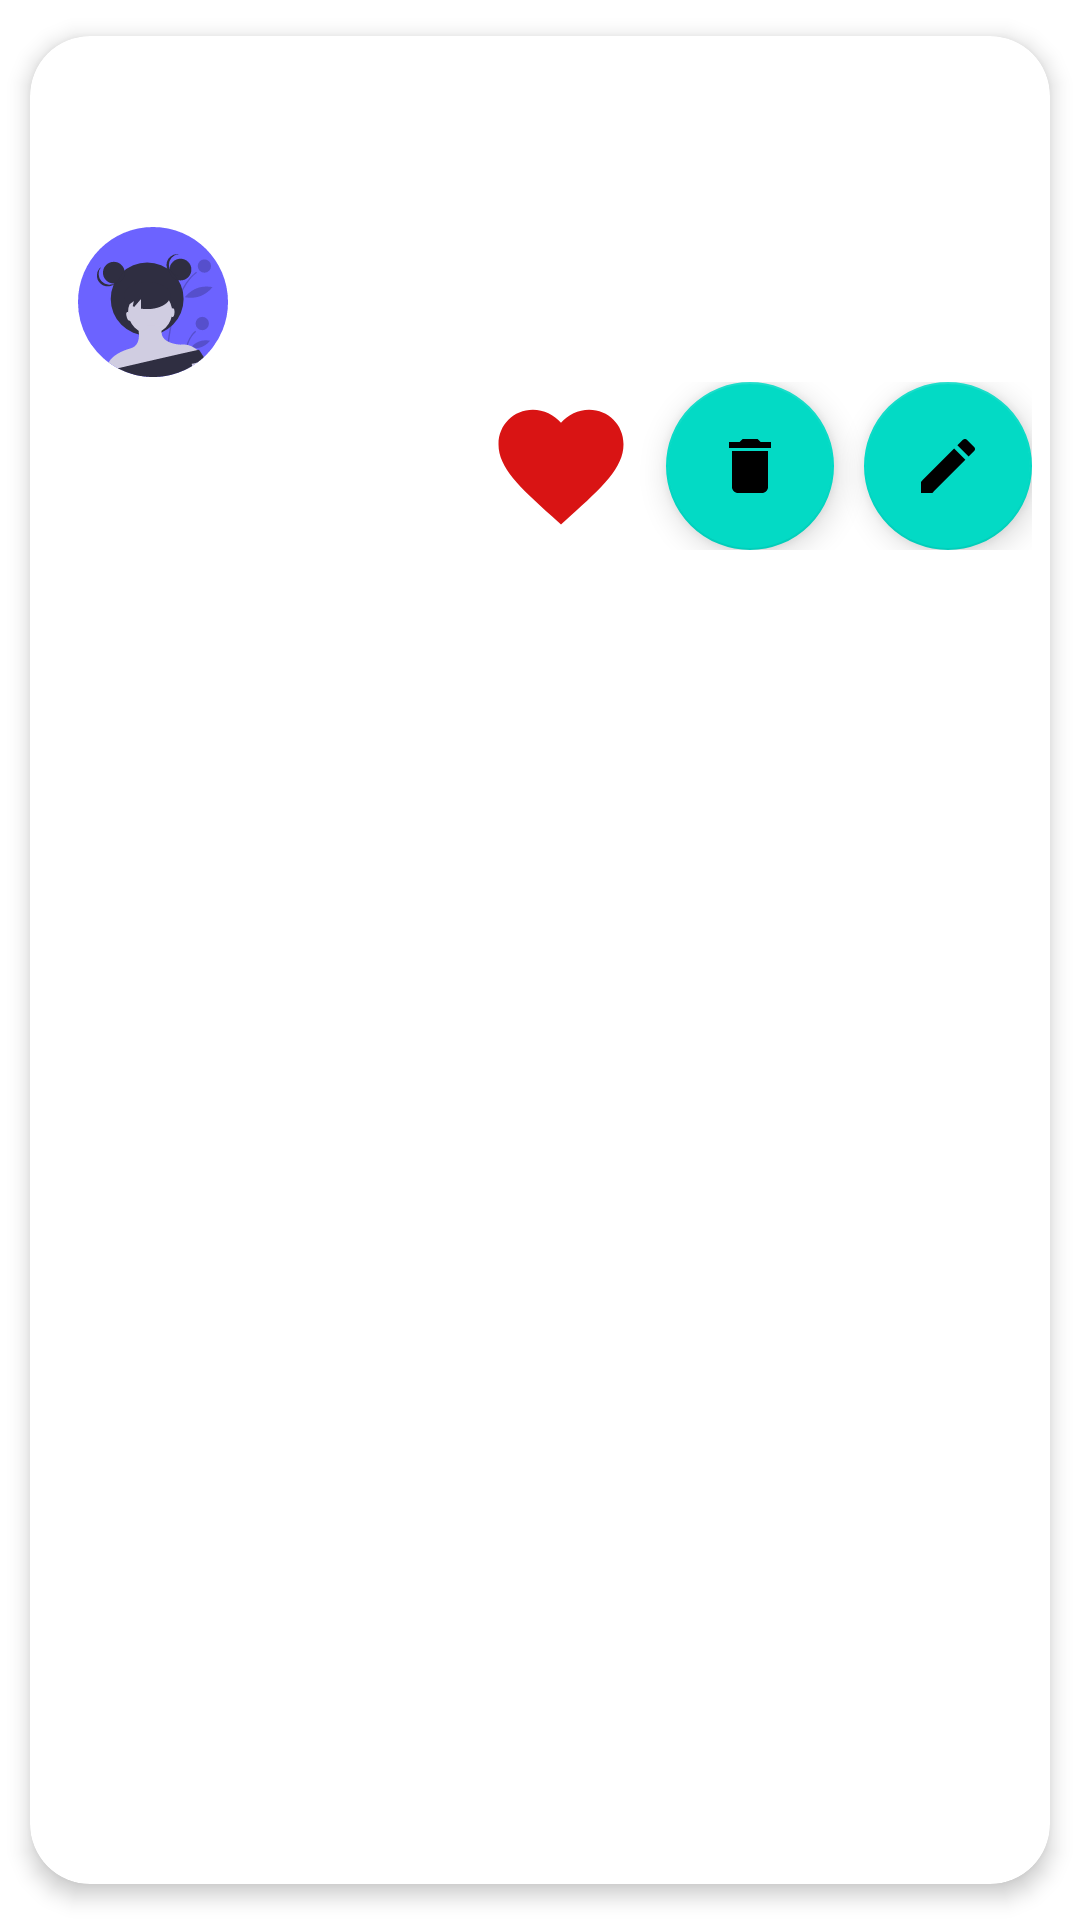

Screen size 1080×1920. Icon name, then its box in pixels as (x1, y1, x2, y2):
delete: (666, 382, 834, 550)
edit: (864, 382, 1032, 550)
favorite: (498, 409, 624, 525)
profile: (78, 227, 228, 377)
